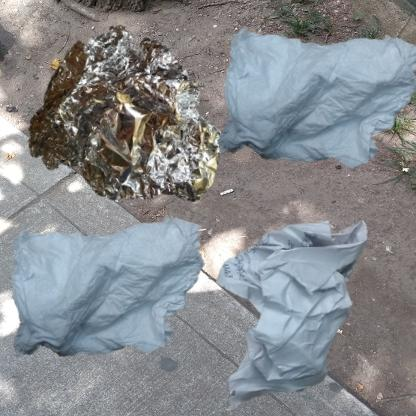aluminio: (10, 10, 236, 232)
papel: (213, 10, 416, 190), (213, 213, 374, 412), (10, 213, 206, 361)
